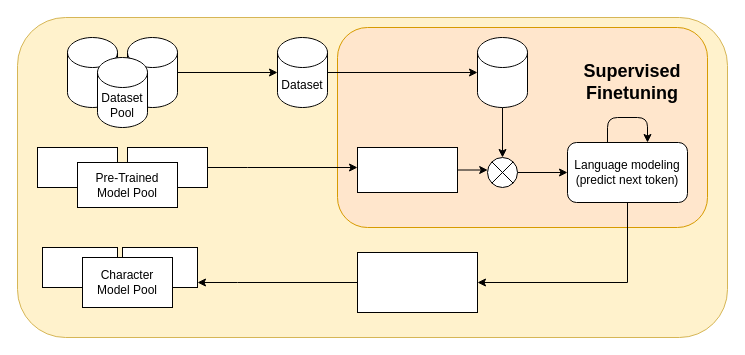
Image size: 745x355. Some labels were removed from this diagram. Each missing label, with the centre of its shape:
Character Model: the point at 417,282
Cleaned Dataset: the point at 502,72
Pre-Trained Model: the point at 407,169
